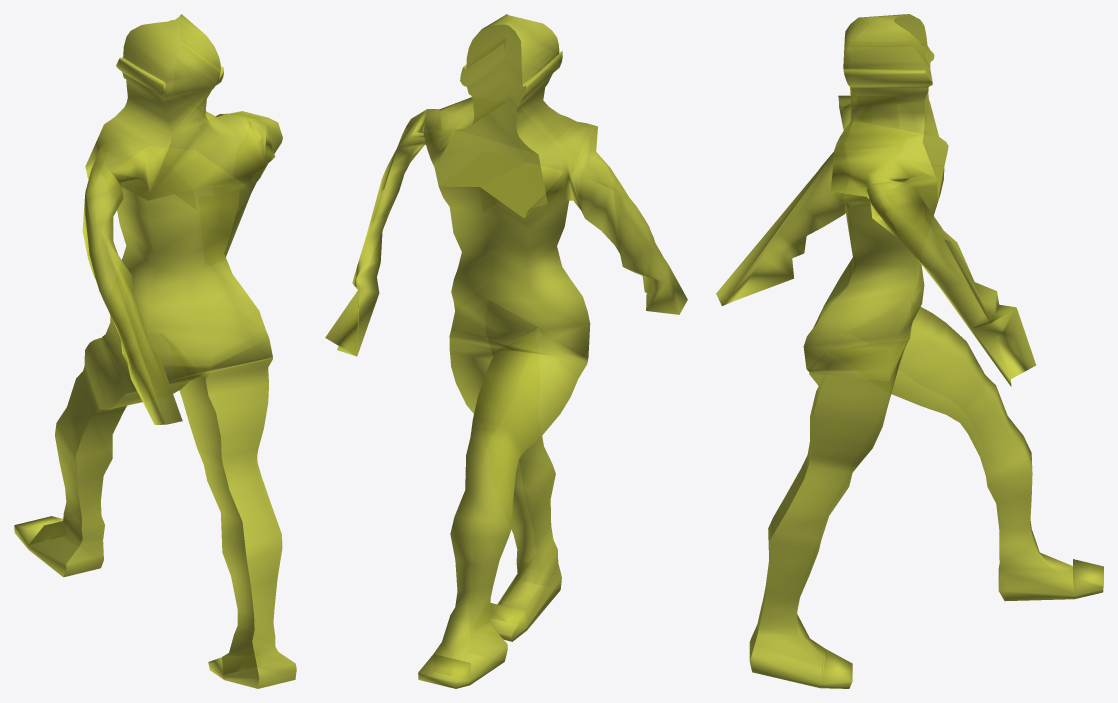
The model's file is woman_000016.obj.
3 renders of one model, left to right at view 1: azimuth 30°, elevation 25°; view 2: azimuth 150°, elevation 25°; view 3: azimuth 270°, elevation 25°, orthographic.
Visible parts, largest first — view 1: Cube_Cube.001; view 2: Cube_Cube.001; view 3: Cube_Cube.001.
Part boxes in pixels (x1,y1,x2,y2): Cube_Cube.001: (14,14,296,688); Cube_Cube.001: (325,14,687,688); Cube_Cube.001: (716,14,1103,688).
Bounding box in the file's own units: 3.58 × 9.98 × 5.45.
